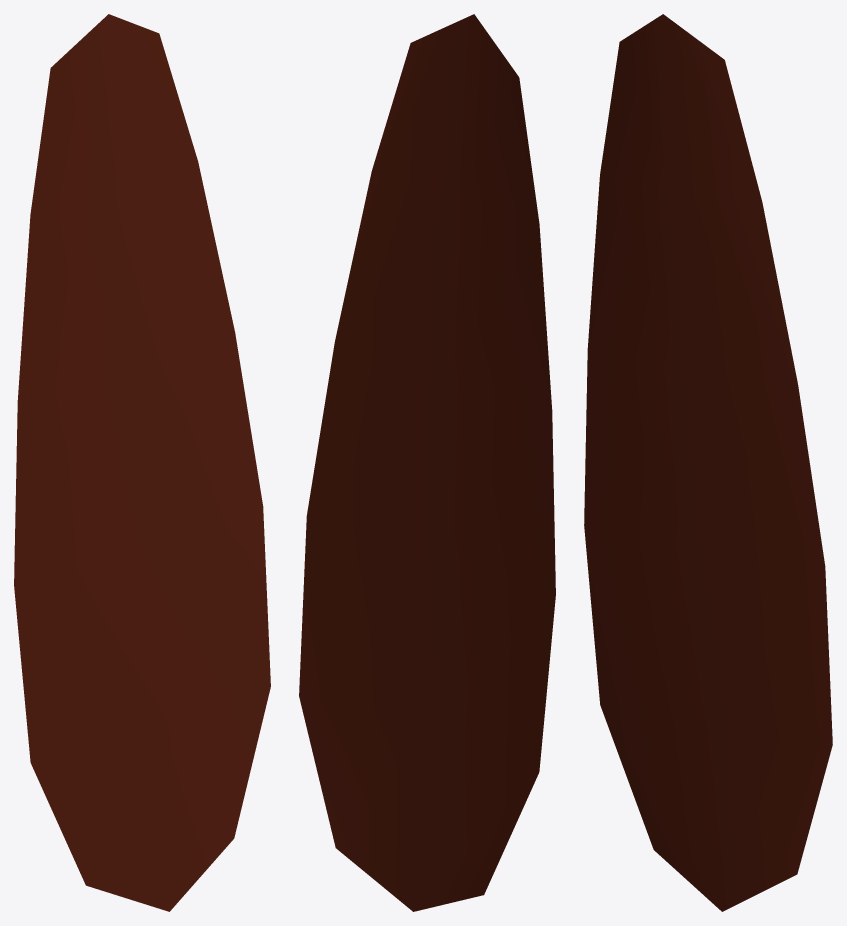
Rendered from finch_feather_flight_tertiary_010.obj.
3 views of the same model, side by side, from view 1: azimuth 30°, elevation 25°; view 2: azimuth 150°, elevation 25°; view 3: azimuth 330°, elevation 25° (orthographic). The views are drawn at different scales.
Parts seen in each view (by area): view 1: feather_flight_tertiary_010; view 2: feather_flight_tertiary_010; view 3: feather_flight_tertiary_010.
Boxes of the visible parts, x1,y1,x2,y2 form: feather_flight_tertiary_010: (14,14,270,911); feather_flight_tertiary_010: (299,14,555,911); feather_flight_tertiary_010: (584,14,832,911).
Size of the model in its own units: 0.00347 by 0.0118 by 0.000152.
